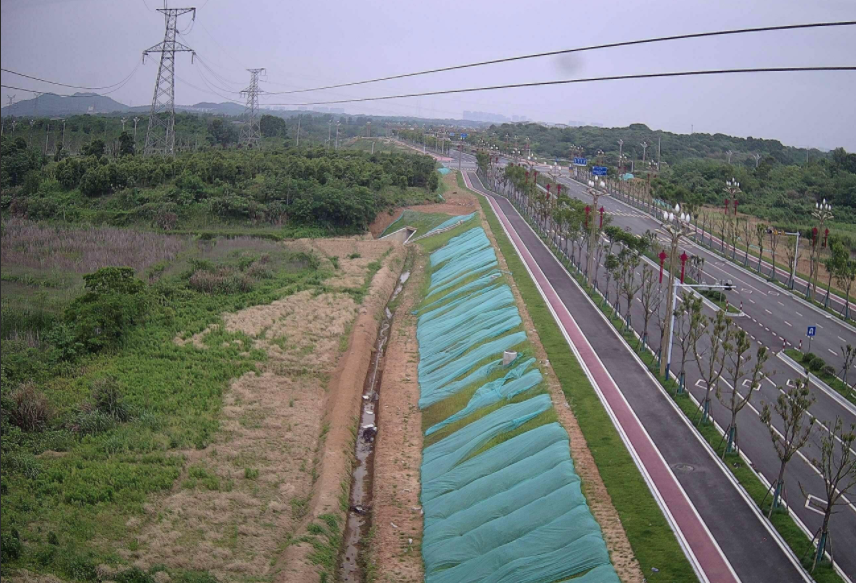绿膜: (419, 420, 621, 582), (410, 303, 555, 439), (423, 226, 516, 304), (425, 209, 478, 234), (737, 236, 779, 254), (651, 197, 672, 209), (436, 166, 452, 175), (623, 172, 634, 180), (618, 173, 621, 180)
